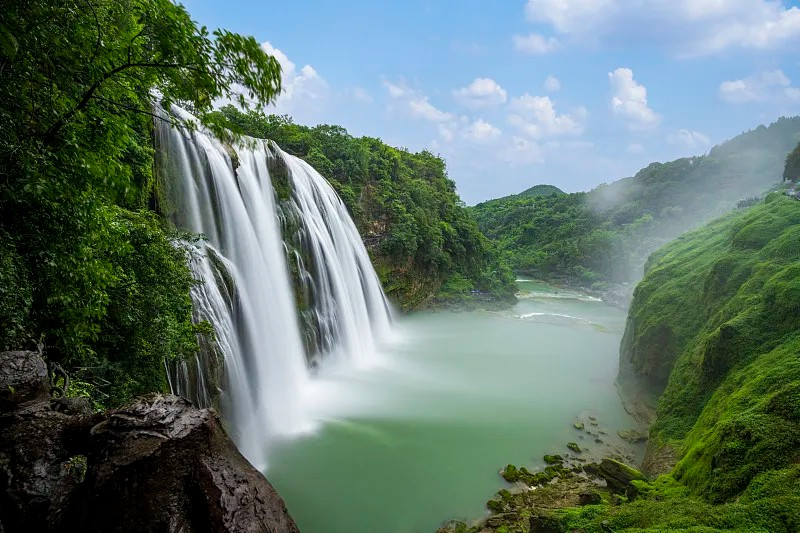Huangguoshu: (149, 91, 399, 474)
